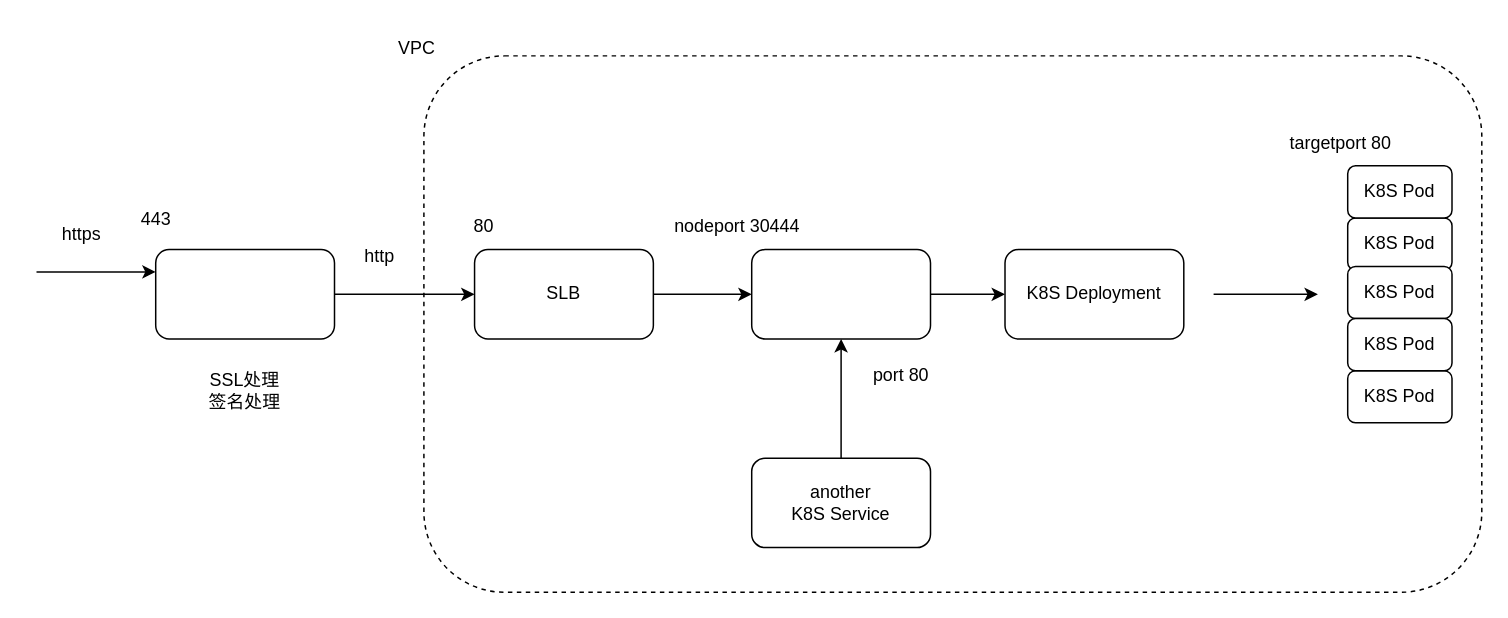
This 1508x618 diagram has some shape labels left out. Here are the shapes that lost their labels. From the top down, the centre of each, then its label:
At point (244, 293): "API Gateway".
At point (840, 293): "K8S Service".
